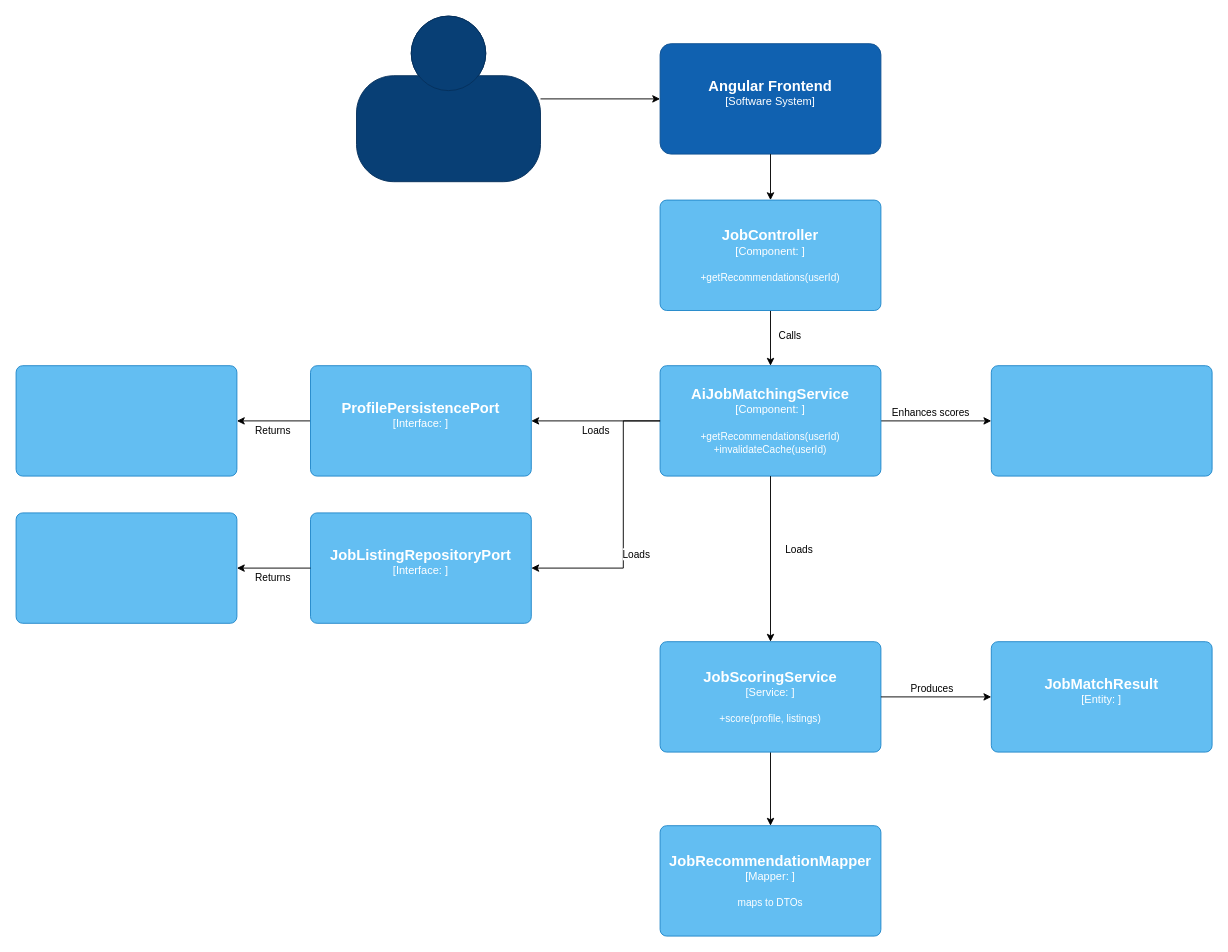
Image size: 1228x952. Some labels were removed from this diagram. Each missing label, with the box of its shape:
AiJobMatcherPort [Interface: ]: (990, 365, 1212, 476)
JobListing [Entity: ]: (15, 512, 237, 623)
Profile [Entity: ]: (15, 365, 237, 476)
Student []: (356, 15, 540, 182)
